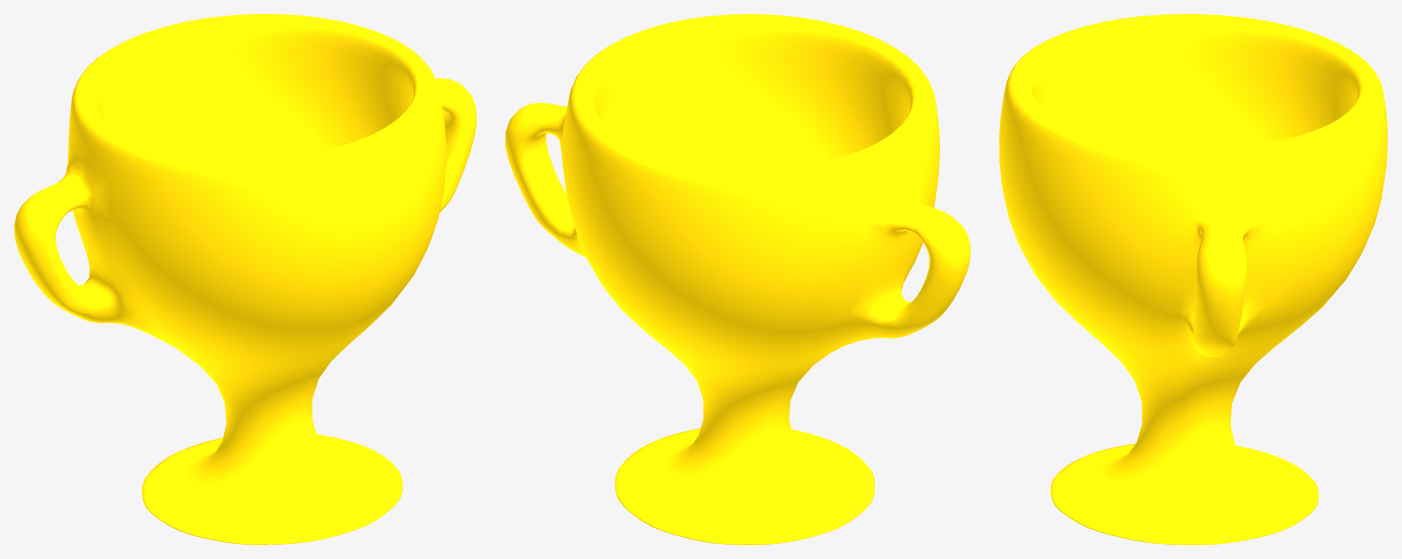
The picture shows the model from 3 angles, left to right: view 1: azimuth 30°, elevation 25°; view 2: azimuth 150°, elevation 25°; view 3: azimuth 270°, elevation 25°; orthographic projection.
Visible parts, largest first — view 1: CupMediumPoly; view 2: CupMediumPoly; view 3: CupMediumPoly.
Boxes of the visible parts, <box> form: CupMediumPoly: <box>14,14,476,544</box>; CupMediumPoly: <box>505,14,970,544</box>; CupMediumPoly: <box>999,14,1387,544</box>.
Bounding box in the file's own units: 319 × 274 × 232.
